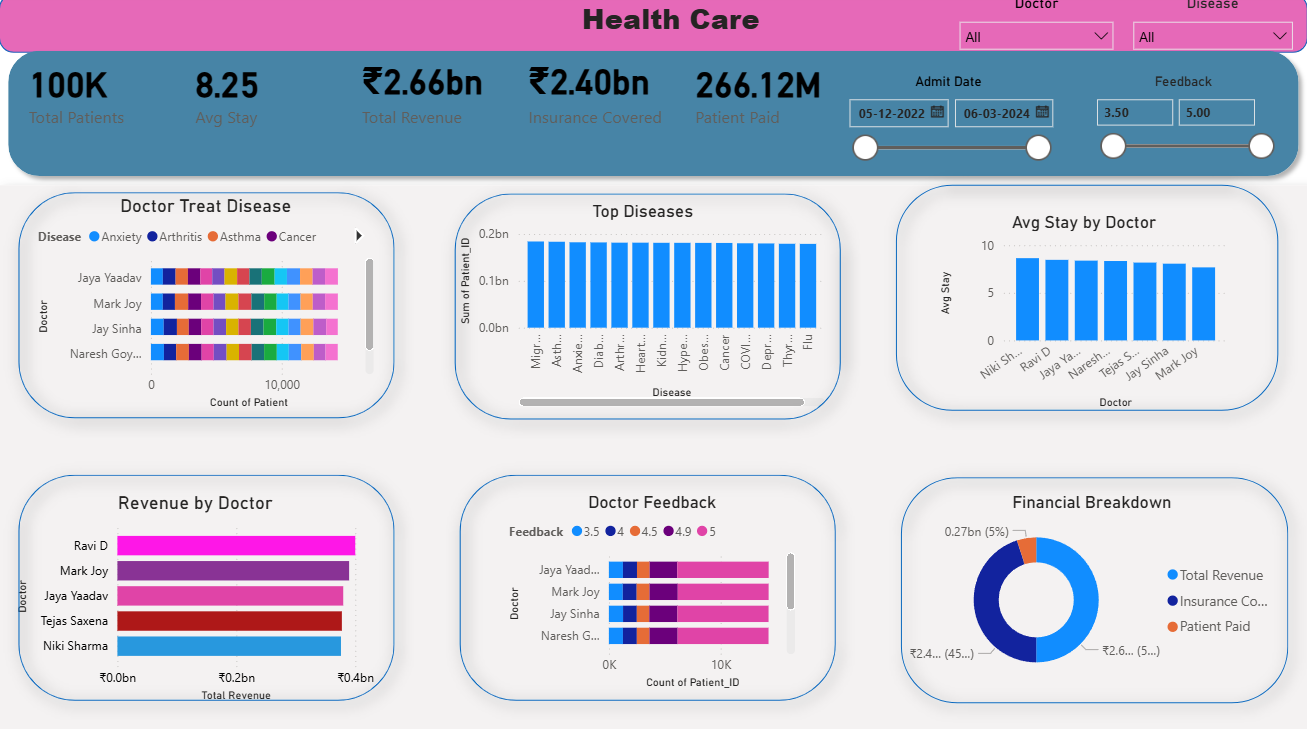

The dashboard page shown, as its layout file describes it:
{"tool":"powerbi","page":{"name":"Doctor","canvas":[1280,720],"ordinal":1},"visuals":[{"type":"shape","box":[0,187.1,1280.3,533.2],"z":0},{"type":"shape","box":[0,0,1280.3,57.5],"z":1000},{"type":"textbox","box":[524.6,0,265.4,57.5],"z":2000},{"type":"actionButton","box":[555.2,0,205.4,57.5],"z":3000},{"type":"shape","box":[0,174.9,406,259.2],"z":4000},{"type":"shape","box":[0,46.5,1280.3,140.6],"z":5000},{"type":"cardVisual","fields":{"Data":["Sheet1.Total Patients","Sheet1.Avg Stay","Sheet1.Total Revenue","Sheet1.Insurance Covered","Sheet1.Patient Paid"]},"box":[0,15.9,842.5,168.8],"z":6000},{"type":"barChart","title":"Doctor Treat Disease","fields":{"Category":["Sheet1.Doctor"],"Series":["Sheet1.Disease"],"Y":["CountNonNull(Sheet1.Patient_ID)"]},"box":[33,196.9,338.7,214],"z":7000},{"type":"clusteredBarChart","title":"Revenue by Doctor","fields":{"Category":["Sheet1.Doctor"],"Y":["Sheet1.Total Revenue"]},"box":[12.2,486.7,359.5,210.3],"z":8000},{"type":"barChart","title":"Doctor Feedback","fields":{"Series":["Sheet1.Feedback"],"Category":["Sheet1.Doctor"],"Y":["CountNonNull(Sheet1.Patient_ID)"]},"box":[494,486.7,289.8,198.1],"z":9000},{"type":"columnChart","fields":{"Category":["Sheet1.Doctor"],"Y":["Sheet1.Avg Stay"]},"box":[915.9,212.8,291,198.1],"z":10000},{"type":"donutChart","title":"Financial Breakdown","fields":{"Y":["Sheet1.Total Revenue","Sheet1.Insurance Covered","Sheet1.Patient Paid"]},"box":[882.9,486.7,373,193.2],"z":11000},{"type":"columnChart","title":"Top Diseases","fields":{"Category":["Sheet1.Disease"],"Y":["Sum(Sheet1.Patient_ID)"]},"box":[446.3,201.8,366.8,206.7],"z":12000},{"type":"slicer","title":"Doctor","fields":{"Values":["Sheet1.Doctor"]},"box":[929.4,0,171.2,68.5],"z":13000},{"type":"slicer","title":"Disease","fields":{"Values":["Sheet1.Disease"]},"box":[1099.3,0,176.1,68.5],"z":14000},{"type":"shape","box":[426.8,176.1,415.8,259.2],"z":15000},{"type":"slicer","title":"Admit Date","fields":{"Values":["Sheet1.Admit_Date"]},"box":[819.3,78.3,218.9,96.6],"z":16000},{"type":"slicer","title":"Feedback","fields":{"Values":["Sheet1.Feedback"]},"box":[1061.4,78.3,194.4,89.3],"z":17000},{"type":"shape","box":[858.4,167.5,412.1,259.2],"z":18000},{"type":"shape","box":[431.7,451.2,406,259.2],"z":19000},{"type":"shape","box":[863.3,453.7,417,259.2],"z":20000},{"type":"shape","box":[0,451.2,406,259.2],"z":21000}]}

Visuals, with their boxes in screenshot pixels (x1, y1, x2, y2), scaled from the page's 1280x720 canvas onto the 1307x729 screenshot:
shape: bbox(0, 189, 1306, 728)
shape: bbox(0, 0, 1306, 58)
textbox: bbox(536, 0, 807, 58)
actionButton: bbox(567, 0, 777, 58)
shape: bbox(0, 177, 415, 440)
shape: bbox(0, 47, 1306, 189)
cardVisual - Sheet1.Total Patients x Sheet1.Avg Stay: bbox(0, 16, 860, 187)
"Doctor Treat Disease" barChart: bbox(34, 199, 380, 416)
"Revenue by Doctor" clusteredBarChart: bbox(12, 493, 380, 706)
"Doctor Feedback" barChart: bbox(504, 493, 800, 693)
columnChart - Sheet1.Doctor x Sheet1.Avg Stay: bbox(935, 215, 1232, 416)
"Financial Breakdown" donutChart: bbox(902, 493, 1282, 688)
"Top Diseases" columnChart: bbox(456, 204, 830, 414)
"Doctor" slicer: bbox(949, 0, 1124, 69)
"Disease" slicer: bbox(1122, 0, 1302, 69)
shape: bbox(436, 178, 860, 441)
"Admit Date" slicer: bbox(837, 79, 1060, 177)
"Feedback" slicer: bbox(1084, 79, 1282, 170)
shape: bbox(877, 170, 1297, 432)
shape: bbox(441, 457, 855, 719)
shape: bbox(882, 459, 1306, 722)
shape: bbox(0, 457, 415, 719)
